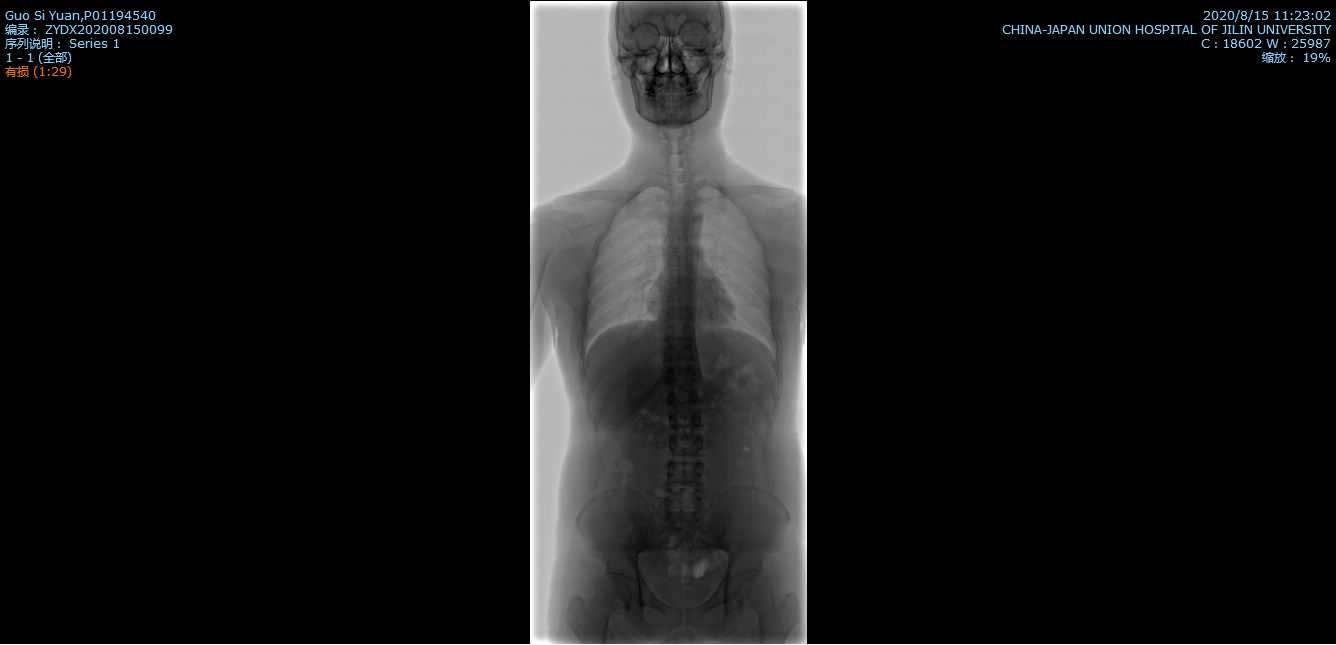胸10椎体: (666, 325, 696, 341)
胸11椎体: (664, 346, 698, 361)
胸12椎体: (663, 368, 700, 385)
胸6椎体: (668, 249, 692, 263)
胸7椎体: (669, 267, 692, 282)
胸8椎体: (667, 287, 692, 302)
胸9椎体: (666, 304, 693, 320)
腰1椎体: (671, 391, 703, 407)
腰2椎体: (670, 412, 702, 428)
腰3椎体: (668, 435, 704, 454)
腰4椎体: (667, 461, 703, 483)
腰5椎体: (666, 492, 704, 514)
